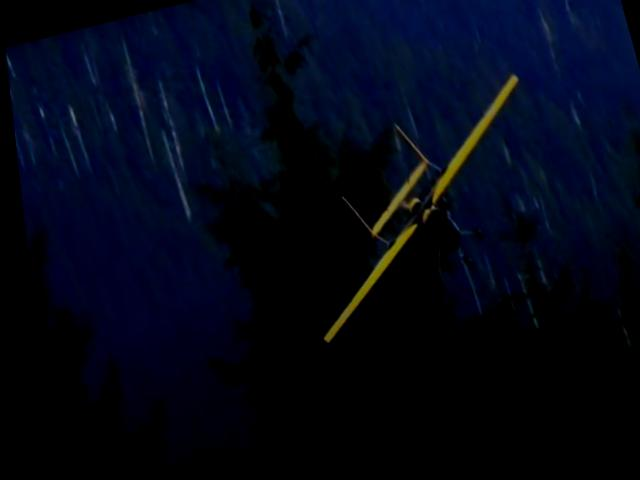iha: (251, 75, 578, 360)
